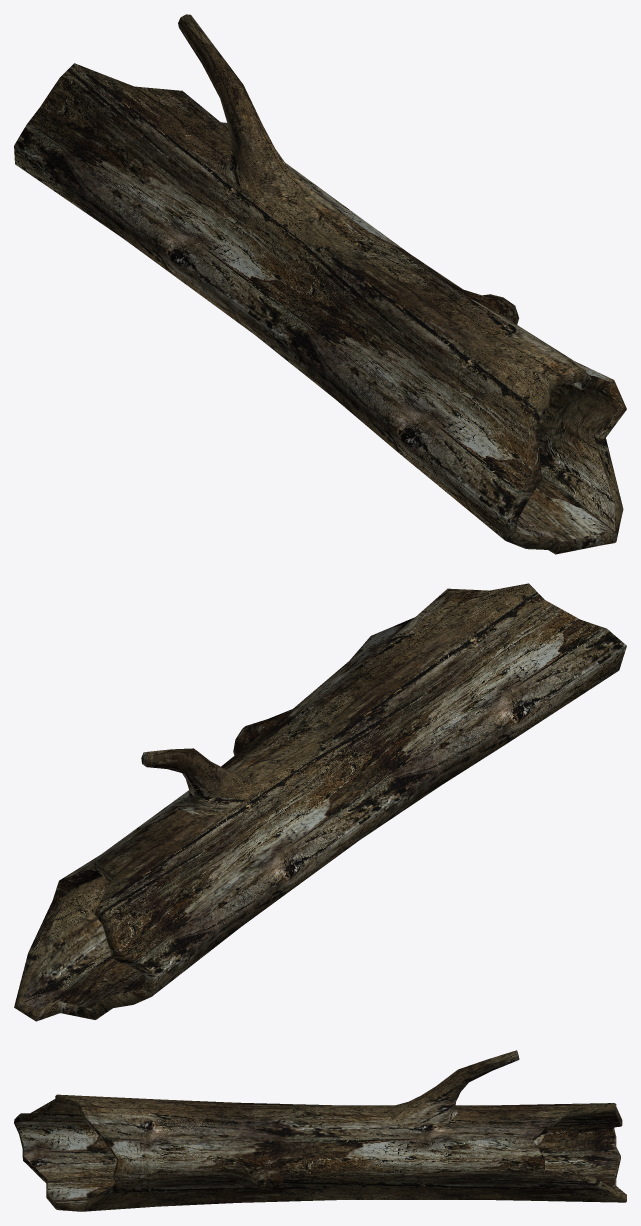
File: SM_HollowLog.FBX
3 renders of one model, top to bottom at view 1: azimuth 30°, elevation 25°; view 2: azimuth 150°, elevation 25°; view 3: azimuth 270°, elevation 25°, orthographic. The views are drawn at different scales.
Parts seen in each view (by area): view 1: SM_HollowLog; view 2: SM_HollowLog; view 3: SM_HollowLog.
Boxes of the visible parts, <box> form: SM_HollowLog: <box>14,14,626,554</box>; SM_HollowLog: <box>14,583,626,1021</box>; SM_HollowLog: <box>14,1050,626,1211</box>.
Size of what is drawn, in the model's own units: 100 by 413 by 110.
